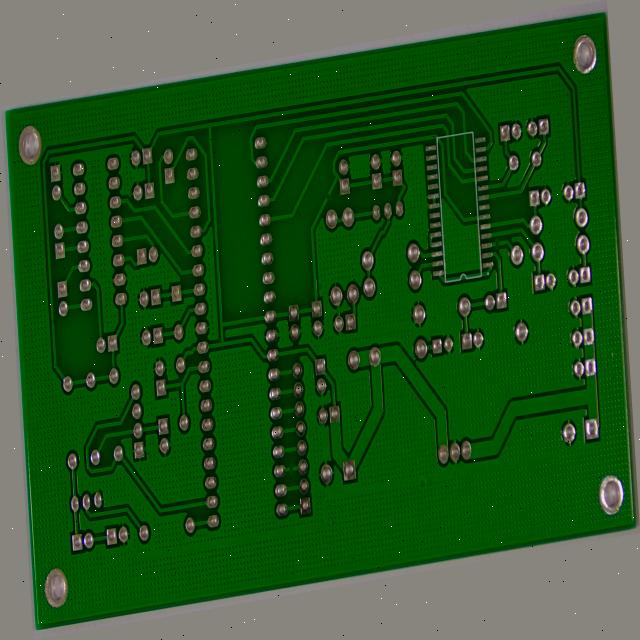open_circuit: (331, 167, 341, 184), (506, 260, 514, 274), (277, 483, 284, 499)
